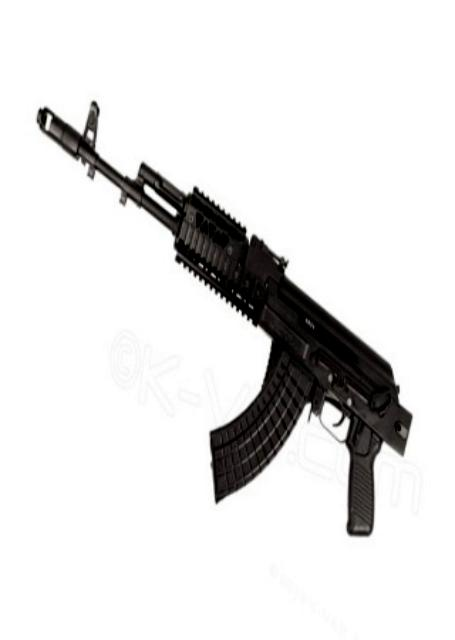rifle: (22, 84, 417, 536)
